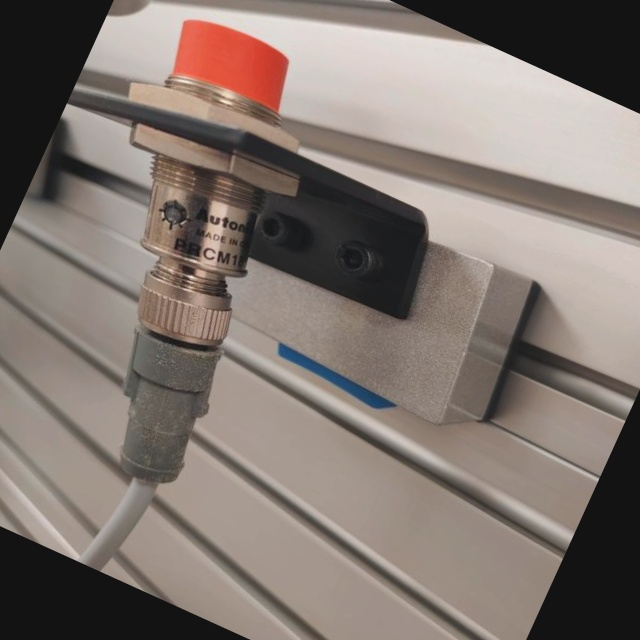inductive sensor: (0, 0, 600, 621)
